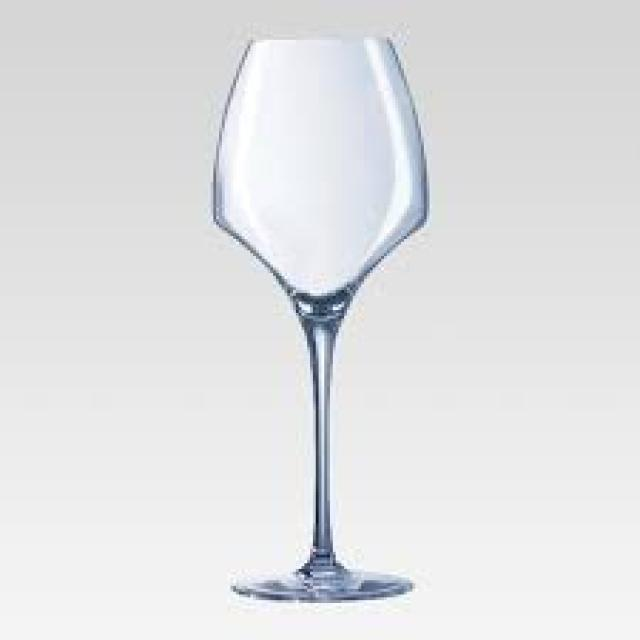Glass: (210, 35, 433, 602)
